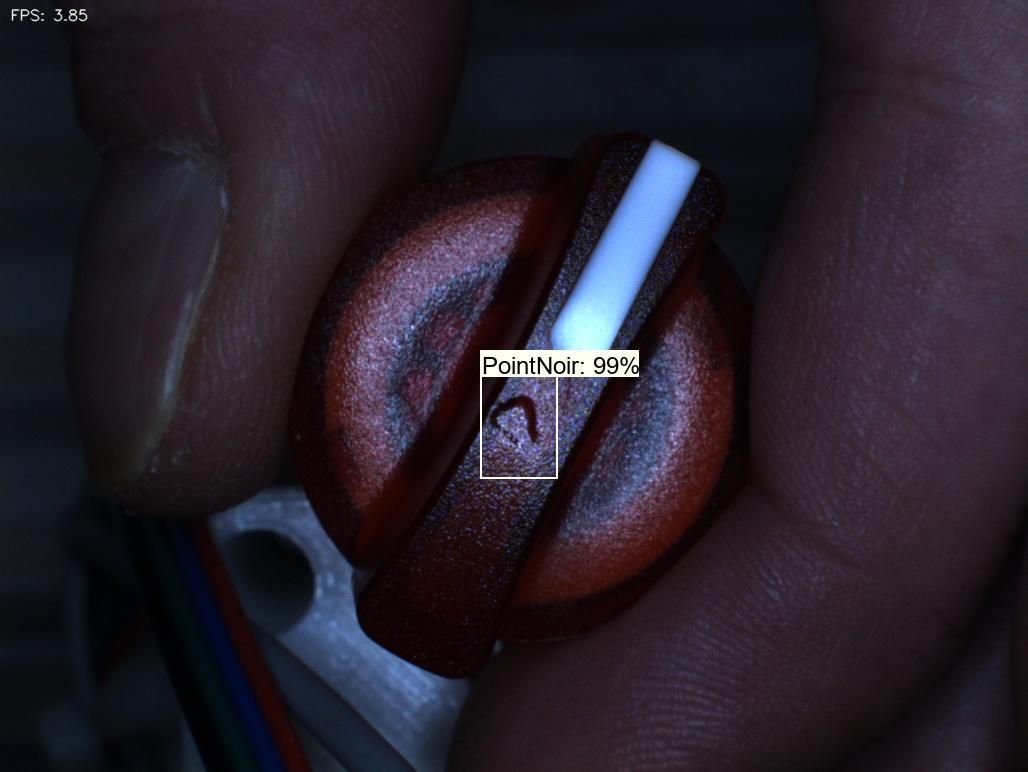Choc: (466, 380, 565, 469)
